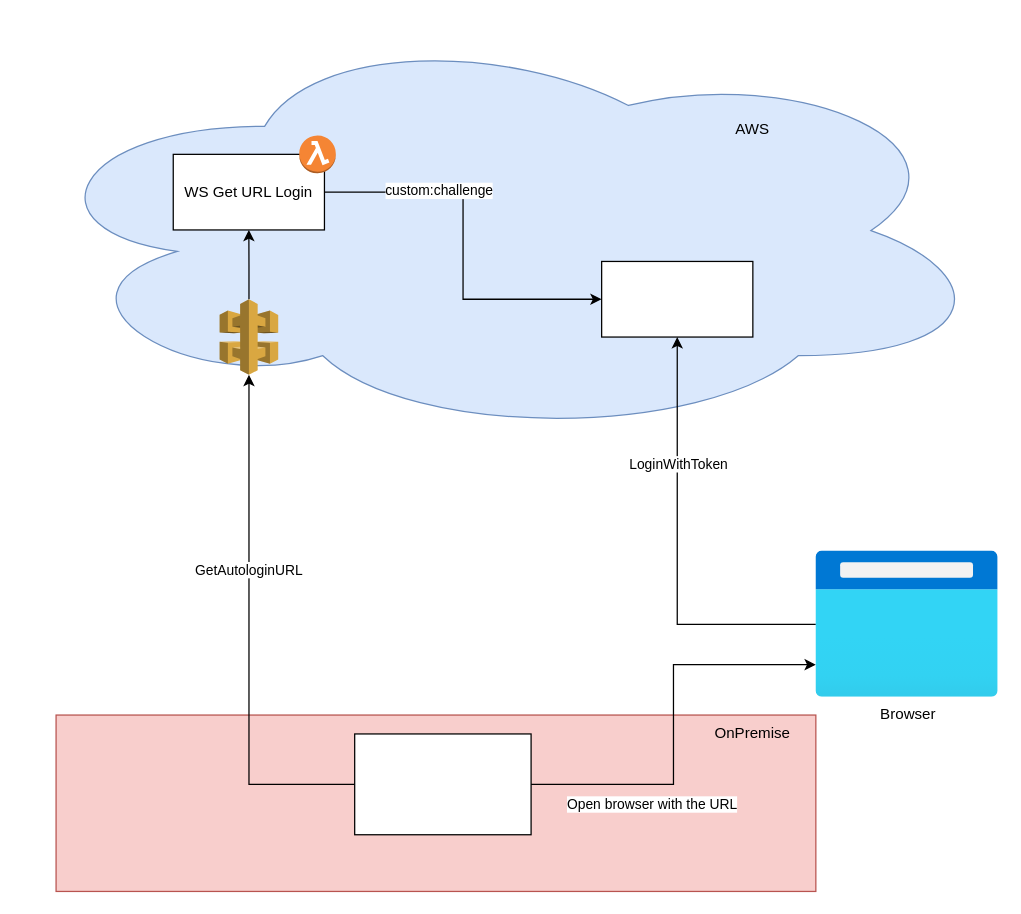
Image size: 1021x914. Some labels were removed from this diagram. Here are the shapes that lost their labels. From the top down, the centre of each, then its label:
(676,298): Cognito
(442,784): sicalwin
